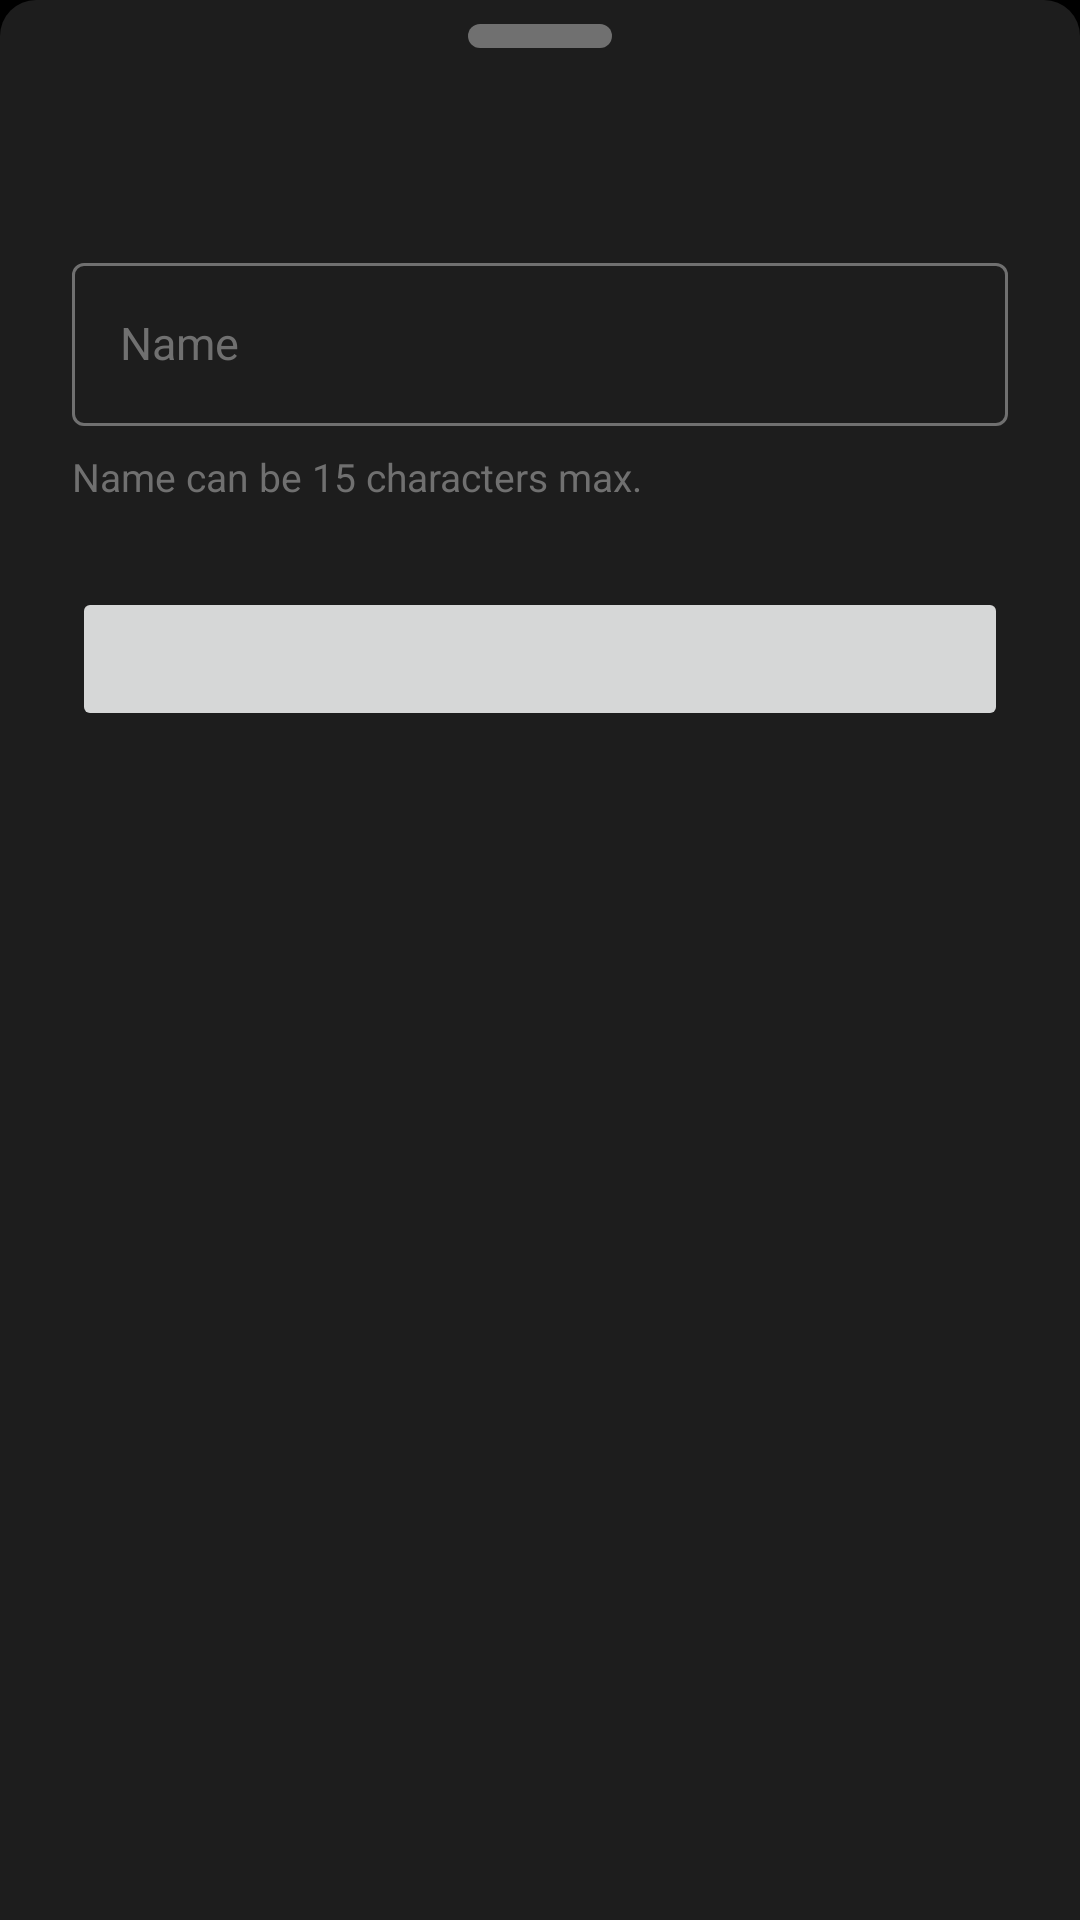

Icon bounding boxes for this 1080x1920 phone screenshot, format [left=x1, top=y1, right=x2, bottom=y2]:
dragable area indicator: [left=468, top=24, right=612, bottom=48]
